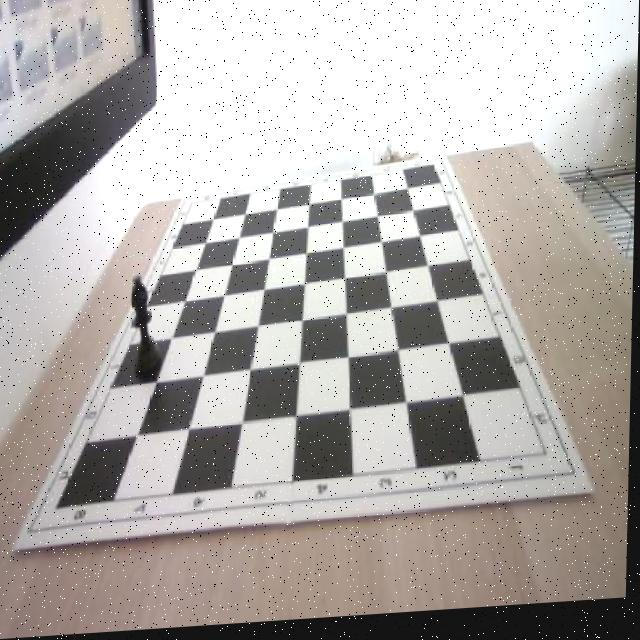bishop: (129, 276, 165, 380)
